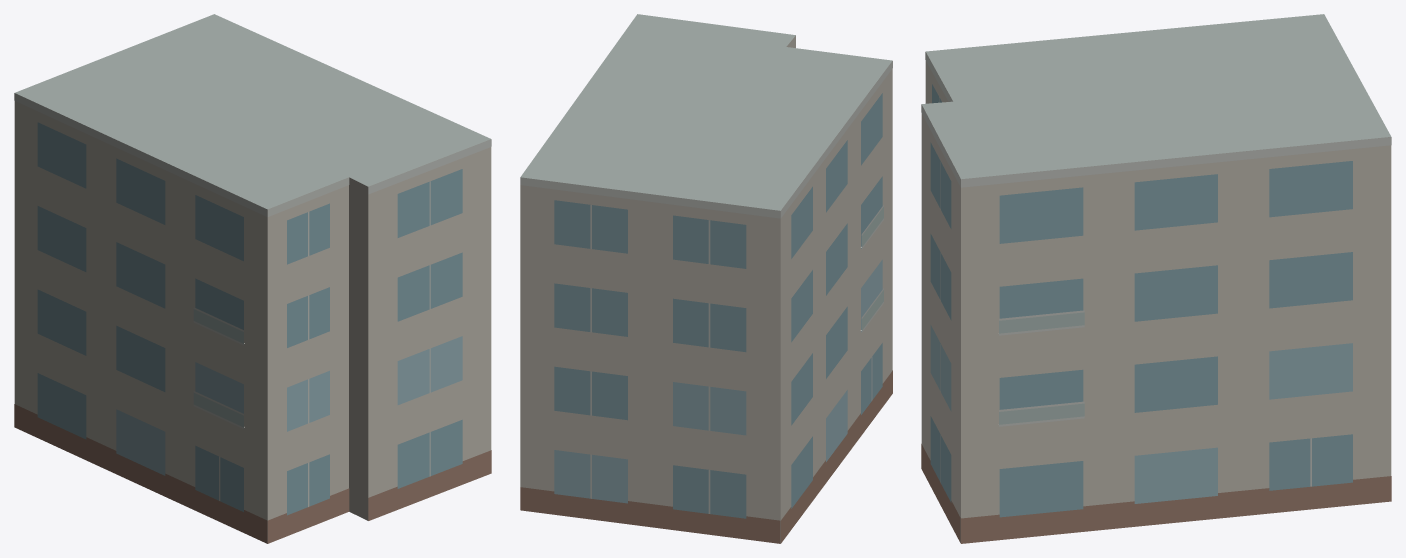
The model's file is survey-upis-32571424.glb.
3 renders of one model, left to right at view 1: azimuth 30°, elevation 25°; view 2: azimuth 150°, elevation 25°; view 3: azimuth 270°, elevation 25°, orthographic. The views are drawn at different scales.
Parts seen in each view (by area): view 1: survey-upis-32571424.tmp; view 2: survey-upis-32571424.tmp; view 3: survey-upis-32571424.tmp.
Boxes of the visible parts, x1,y1,x2,y2 form: survey-upis-32571424.tmp: [14, 14, 491, 543]; survey-upis-32571424.tmp: [520, 14, 892, 543]; survey-upis-32571424.tmp: [921, 14, 1391, 543].
Size of the model in its own units: 10.21 by 10.5 by 12.28.
